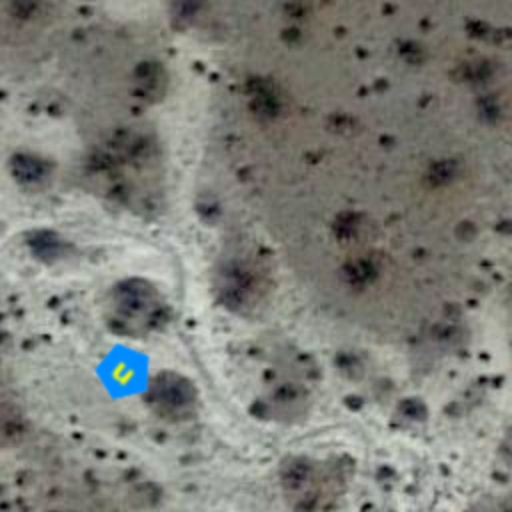pentagon: (80, 328, 168, 416)
